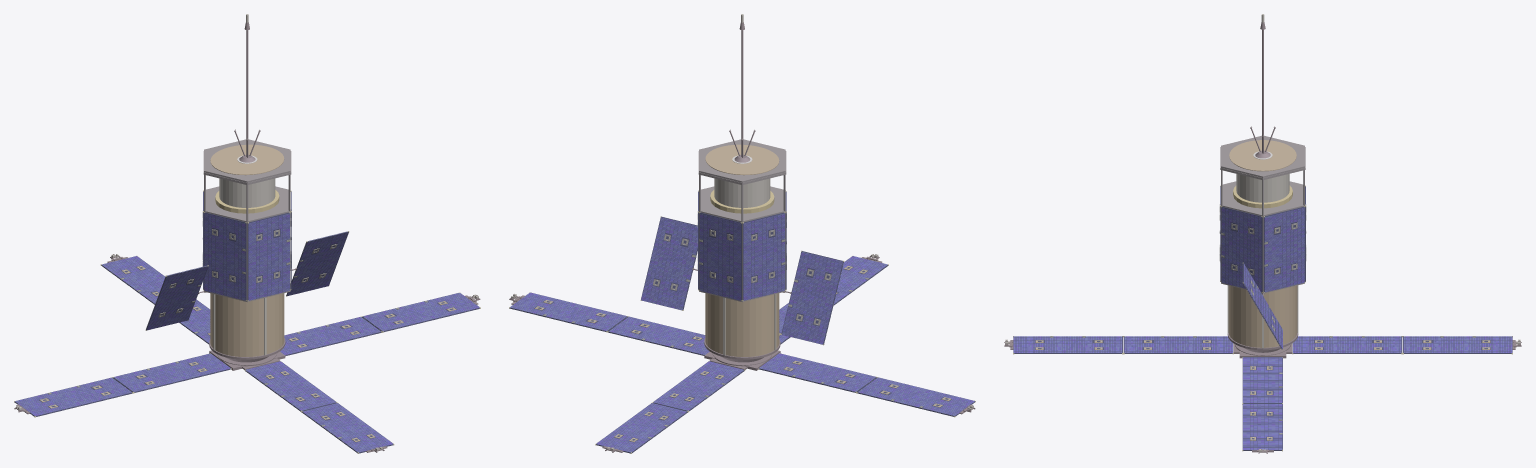
The model's file is tselina-2.glb.
The picture shows the model from 3 angles, left to right: view 1: azimuth 30°, elevation 25°; view 2: azimuth 150°, elevation 25°; view 3: azimuth 270°, elevation 25°; orthographic projection. The views are drawn at different scales.
Parts seen in each view (by area): view 1: Layer_0; view 2: Layer_0; view 3: Layer_0.
Boxes of the visible parts, x1,y1,x2,y2 form: Layer_0: (14,14,480,453); Layer_0: (509,14,975,453); Layer_0: (1004,14,1521,453).
Size of the model in its own units: 46.78 by 33.4 by 46.78.
2 materials, 2 textured.
